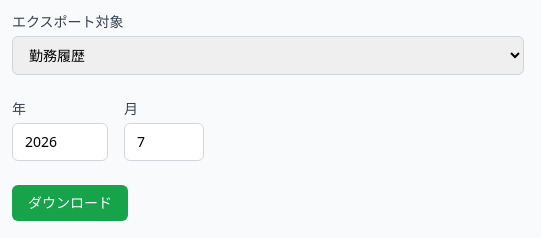
Test: ExportForm › ユーザ一覧選択時に年月入力が非表示になる
Select "ユーザ一覧" in the dropdown labelled "エクスポート対象" at (268, 56), box left=12, top=36, right=524, bottom=75
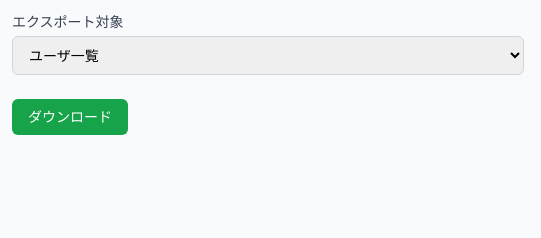
Check: the label labelled "年" is gone
Check: the label labelled "月" is gone
